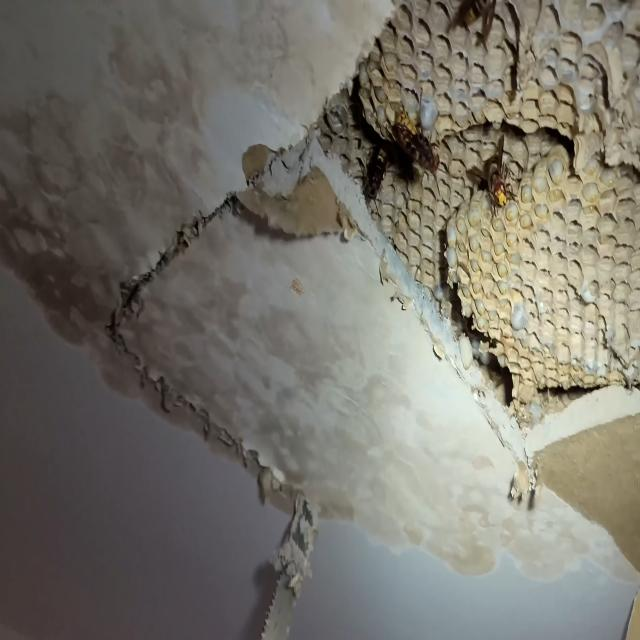Hornets: (387, 88, 446, 196), (469, 133, 522, 221)
